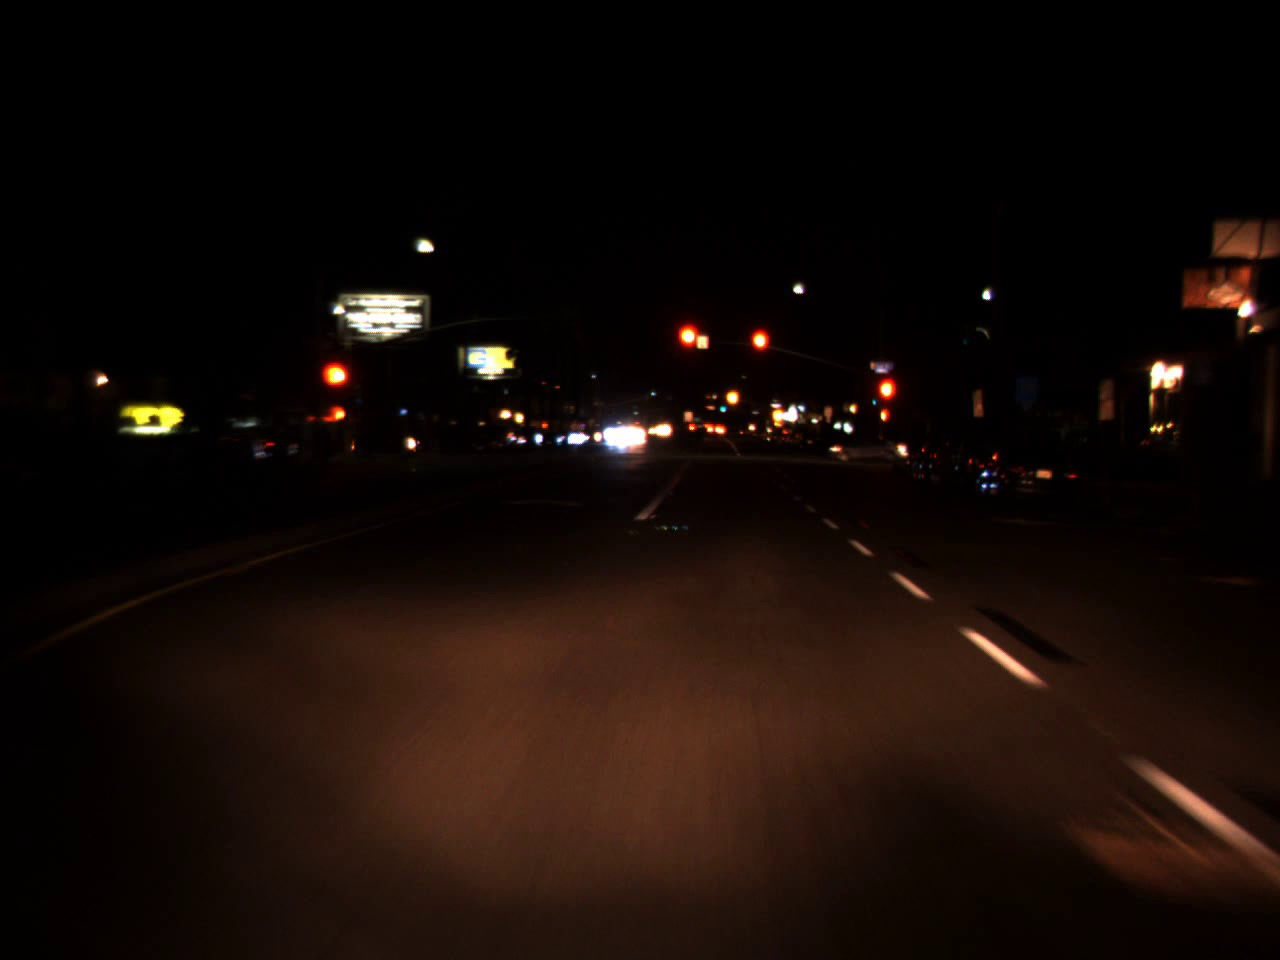go: (718, 399, 727, 414)
stop: (318, 358, 354, 417), (673, 321, 703, 375), (874, 375, 899, 429), (748, 326, 772, 377)
warning: (724, 382, 740, 412), (769, 401, 784, 426)
